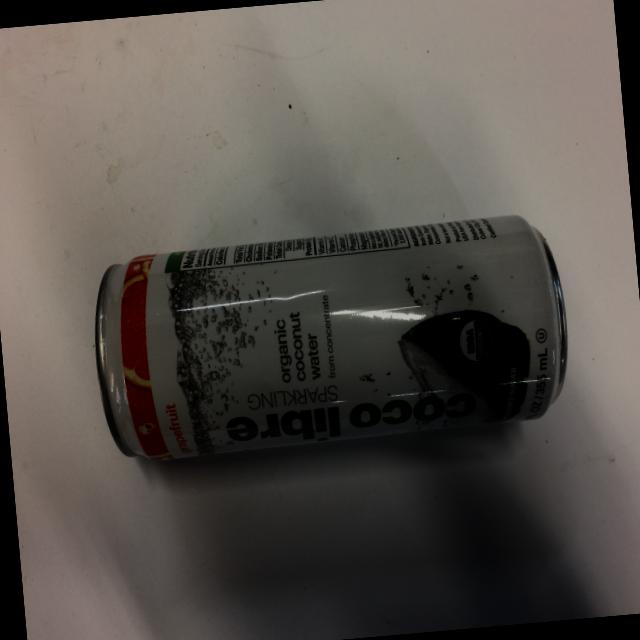Metal: (74, 157, 593, 480)
